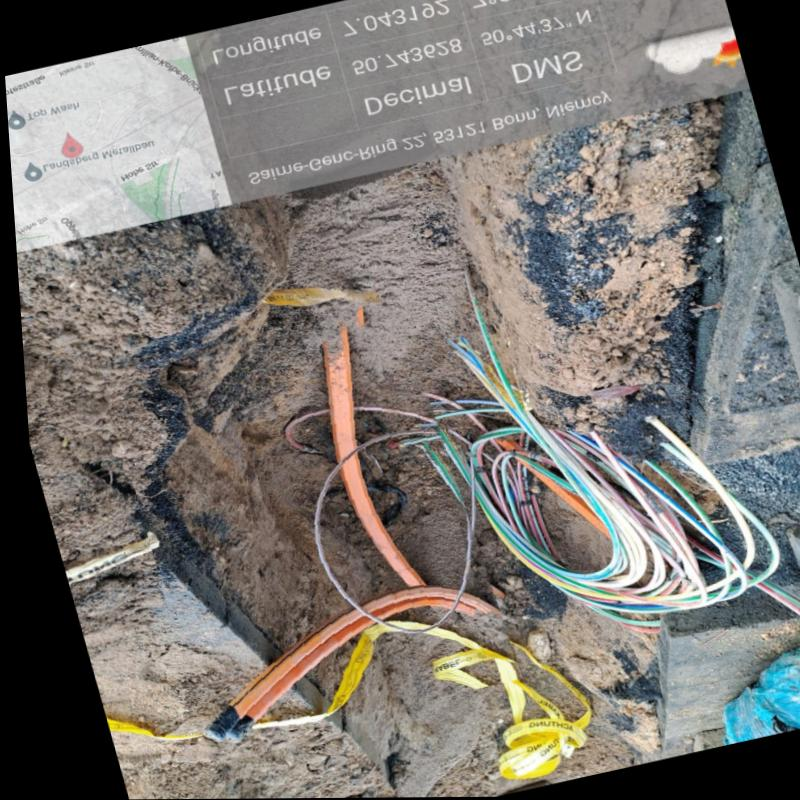Orang-Speednetrohrchen: (191, 322, 489, 743)
